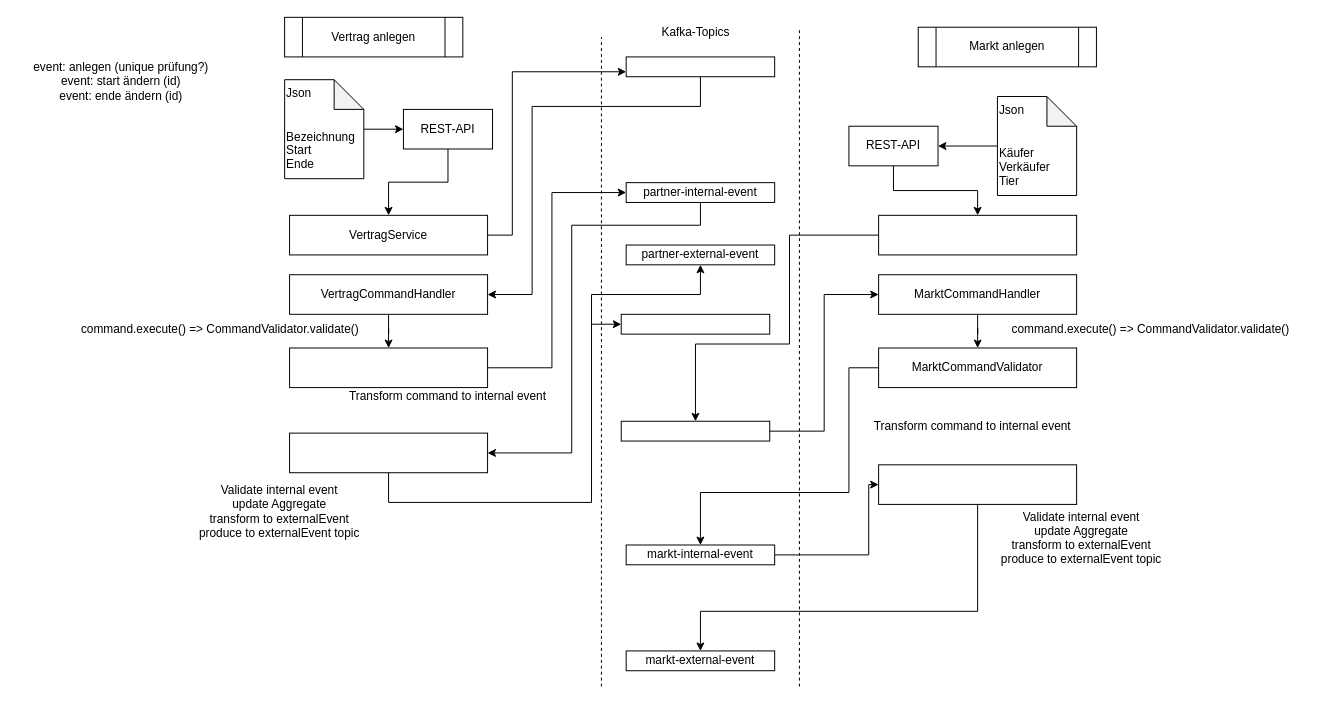
Some shapes in this 1331 by 705 pixel diagram are drawn without their labels. The box of each missing label's shape, as (x1, y1, x2, y2) in pixels:
markt-command: (620, 420, 770, 441)
MarktEventAggregator: (878, 464, 1077, 504)
MarktService: (878, 214, 1077, 255)
partner-command: (625, 56, 775, 77)
partner-state: (620, 313, 770, 334)
VertragCommandValidator: (289, 347, 488, 388)
VertragEventAggregator: (289, 432, 488, 473)
